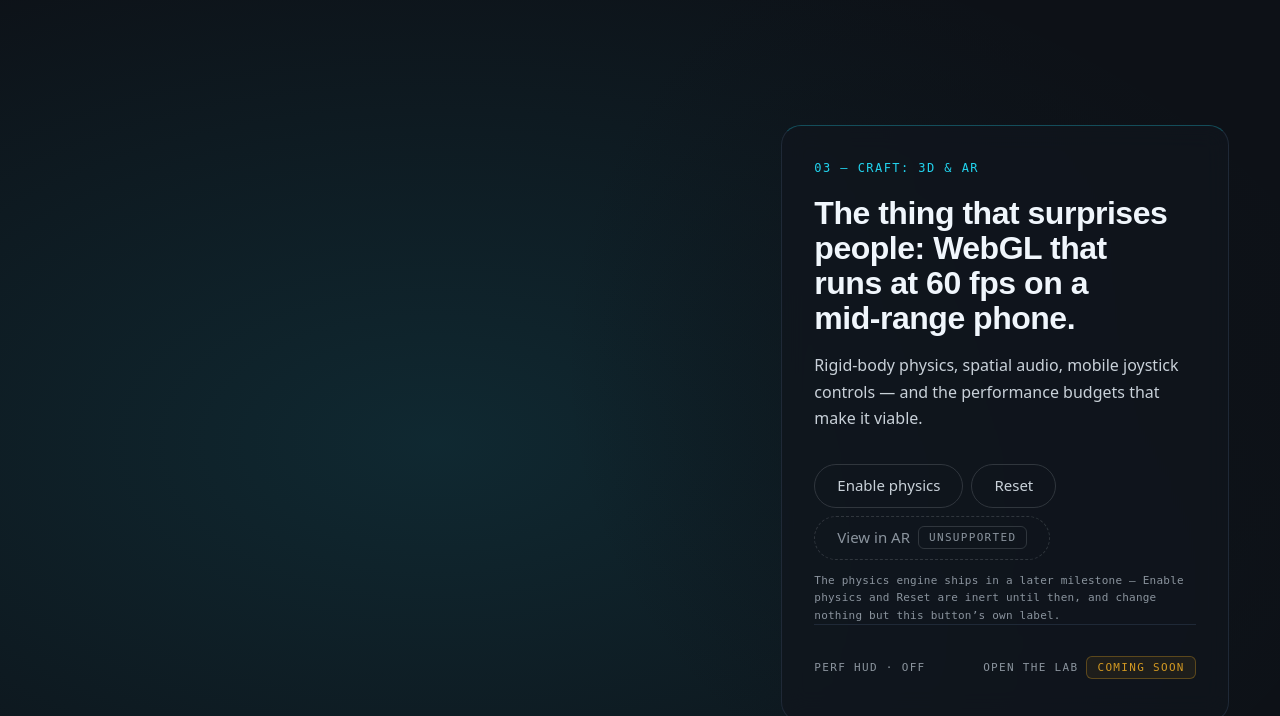
Test: Craft — the perf HUD is honest › opens on click and flips the label
Click the button "Perf HUD · off" at (870, 667), box x1=814 y1=645 x2=926 y2=689
(page scrolled)
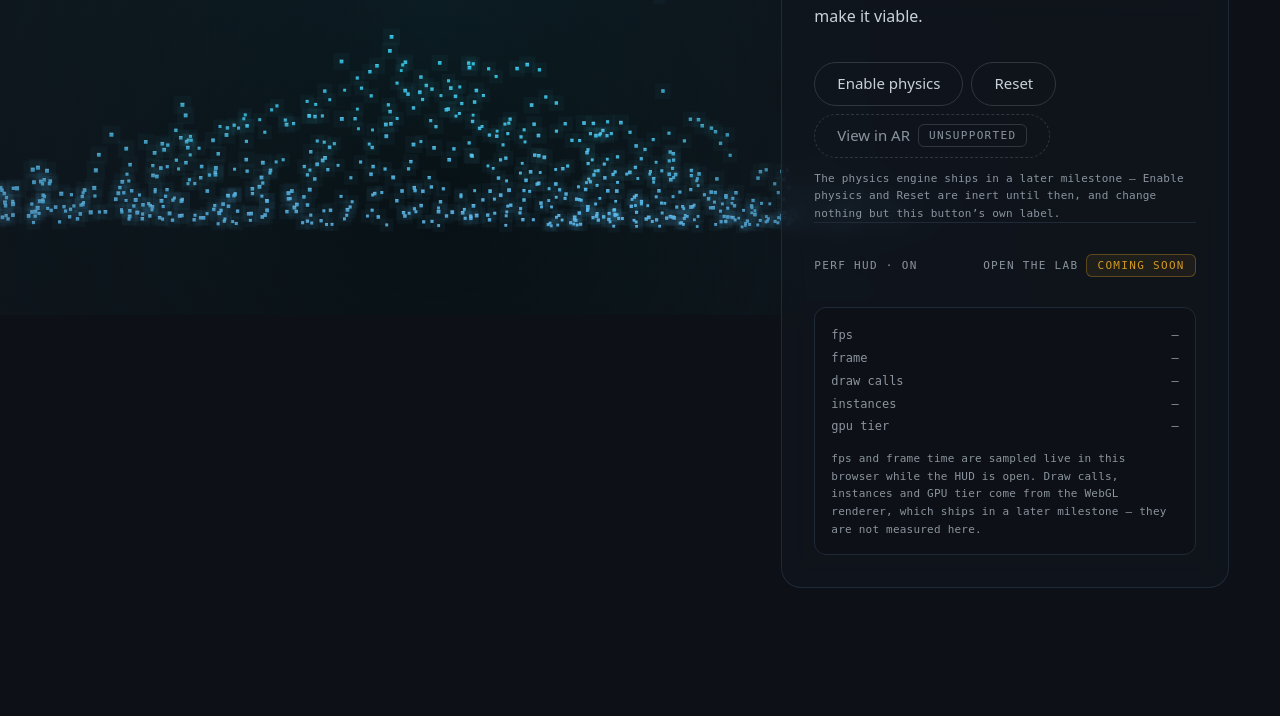
expect the button "Perf HUD · on" is expanded: met, box x1=814 y1=243 x2=918 y2=287
expect the element with id "craft-perf-hud" is shown: met, box x1=814 y1=307 x2=1196 y2=555
